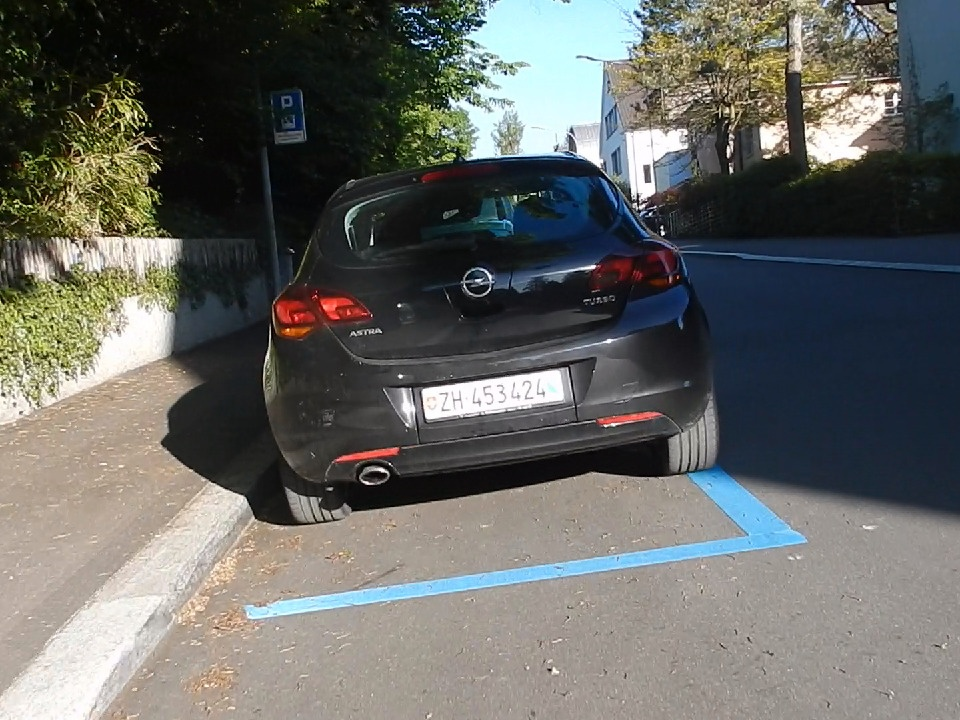car: (239, 146, 745, 542)
